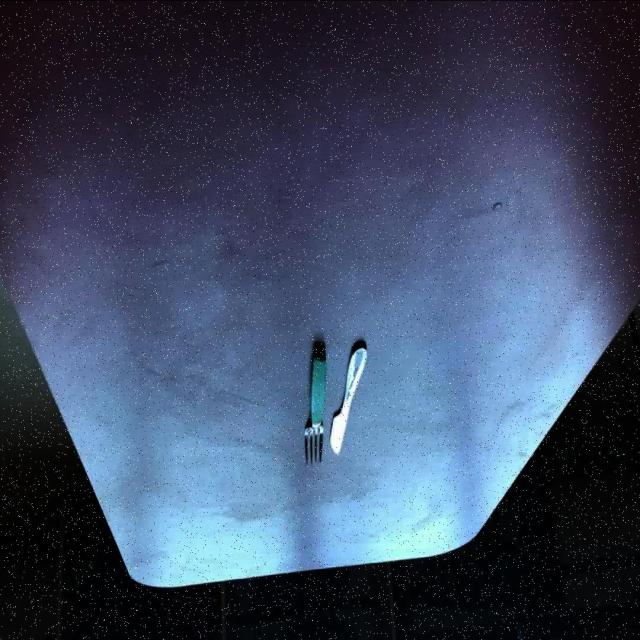Fork: (302, 345, 326, 463)
Knife: (329, 337, 367, 455)
